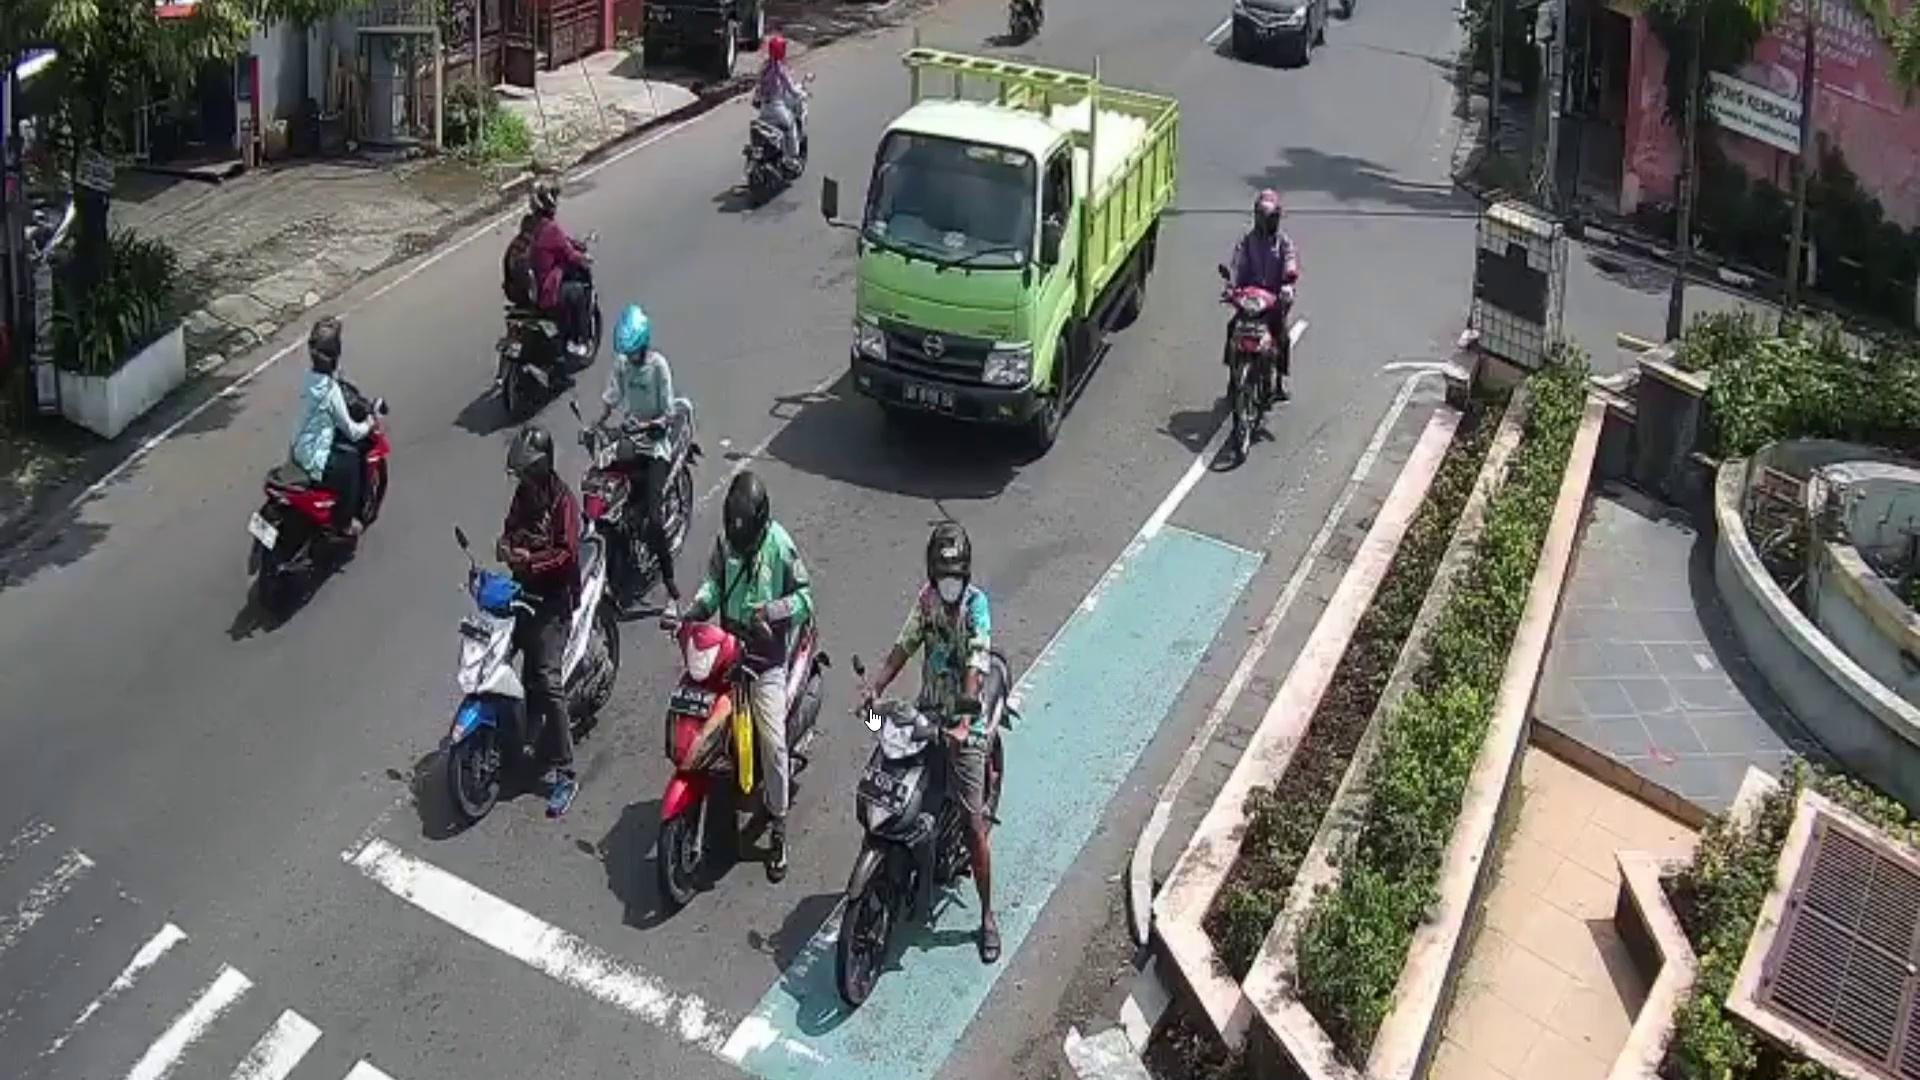motorbike: (844, 650, 1023, 1006), (647, 576, 820, 911), (446, 535, 625, 823), (252, 388, 390, 605), (489, 236, 593, 425), (579, 398, 694, 568), (1221, 284, 1280, 454), (748, 80, 807, 214)
truck: (849, 78, 1174, 456)
